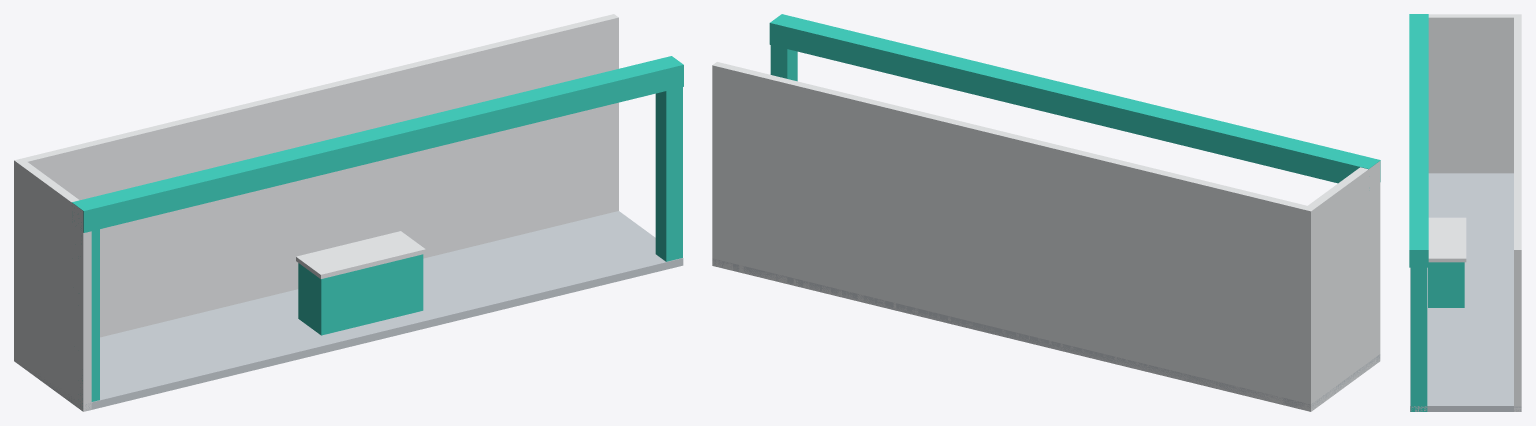
3 renders of one model, left to right at view 1: azimuth 30°, elevation 25°; view 2: azimuth 150°, elevation 25°; view 3: azimuth 270°, elevation 25°, orthographic. The views are drawn at different scales.
Parts seen in each view (by area): view 1: Exhibition Booth Concept; view 2: Exhibition Booth Concept; view 3: Exhibition Booth Concept.
Part boxes in pixels (bbox=[...]): Exhibition Booth Concept: bbox=[14, 14, 683, 411]; Exhibition Booth Concept: bbox=[712, 14, 1380, 411]; Exhibition Booth Concept: bbox=[1409, 14, 1521, 411].
Bounding box in the file's own units: 10 × 3.2 × 2.01.
